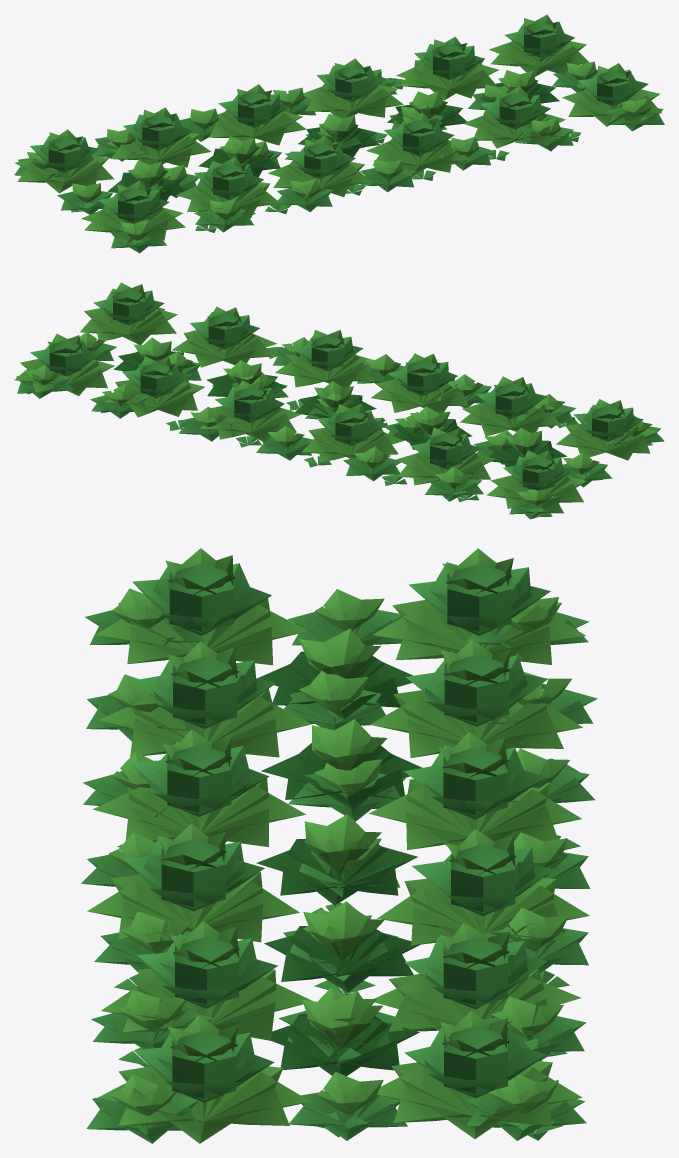
Rendered from crop_greens.glb.
The picture shows the model from 3 angles, top to bottom: view 1: azimuth 30°, elevation 25°; view 2: azimuth 150°, elevation 25°; view 3: azimuth 270°, elevation 25°; orthographic projection. The views are drawn at different scales.
Visible parts, largest first — view 1: Stage3, Stage2, Stage1; view 2: Stage3, Stage2, Stage1; view 3: Stage3, Stage2, Stage1.
Part boxes in pixels (bbox=[...]): Stage3: bbox=[15, 14, 661, 243]; Stage2: bbox=[14, 51, 664, 253]; Stage1: bbox=[71, 78, 647, 248]; Stage3: bbox=[14, 282, 657, 512]; Stage2: bbox=[16, 307, 664, 519]; Stage1: bbox=[19, 331, 652, 518]; Stage3: bbox=[87, 548, 589, 1143]; Stage2: bbox=[81, 588, 597, 1143]; Stage1: bbox=[114, 630, 580, 1140].
Bounding box in the file's own units: 2.77 × 0.211 × 1.09.
